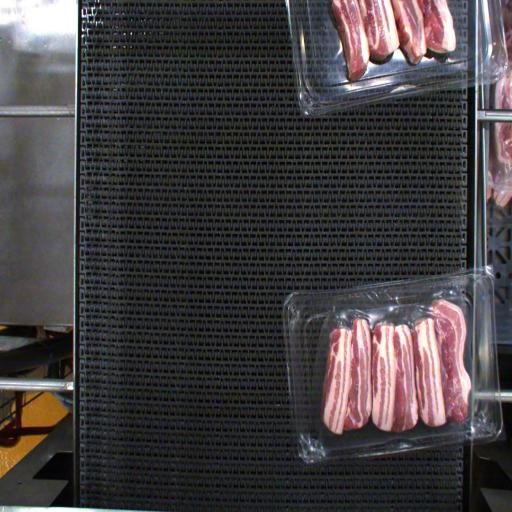unsealed: (298, 276, 486, 377)
